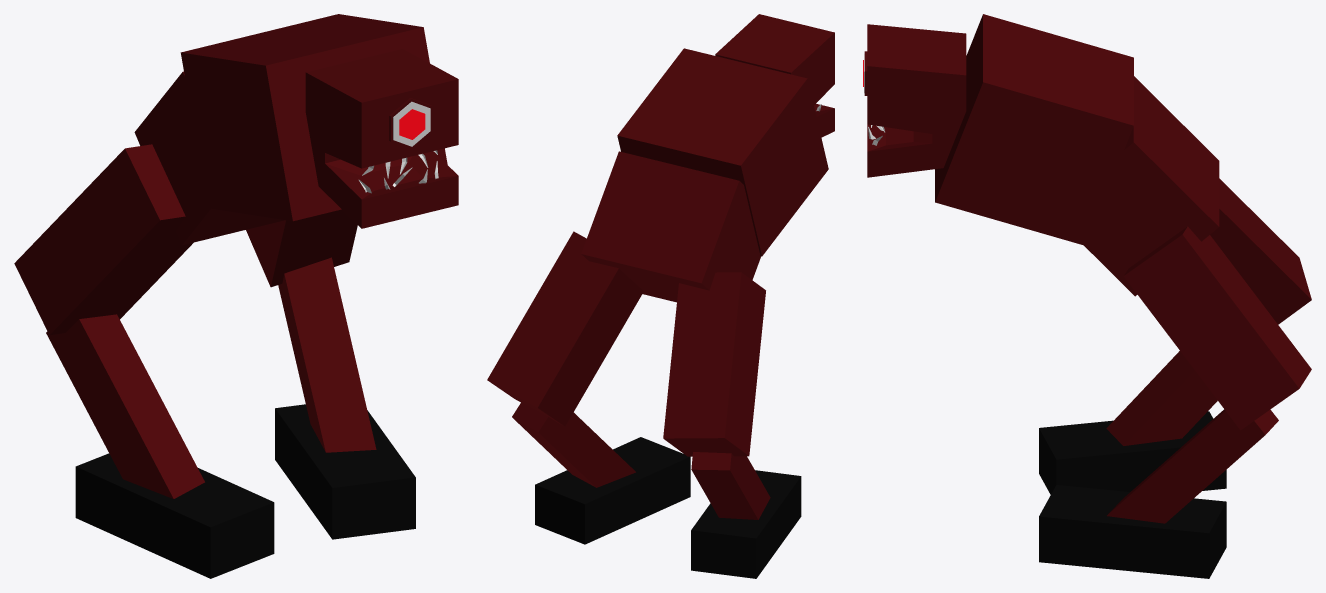
File: Monster.glb
The picture shows the model from 3 angles, left to right: view 1: azimuth 30°, elevation 25°; view 2: azimuth 150°, elevation 25°; view 3: azimuth 270°, elevation 25°; orthographic projection. The views are drawn at different scales.
Parts seen in each view (by area): view 1: Cube.002, Cube.004, Cube.001, Cube, Cube.005, Cube.003, Cylinder.002, Cylinder.001; view 2: Cube, Cube.004, Cube.003, Cube.002, Cube.001, Cube.005; view 3: Cube.004, Cube, Cube.002, Cube.003, Cube.005, Cube.001.
Part boxes in pixels (box(x1,y1,x2,y2)): Cube.002: box(75, 404, 415, 578); Cube.004: box(180, 14, 447, 221); Cube.001: box(46, 257, 376, 498); Cube: box(14, 144, 357, 335); Cube.005: box(305, 48, 458, 228); Cube.003: box(134, 71, 284, 245); Cylinder.002: box(393, 101, 430, 146); Cylinder.001: box(399, 109, 425, 139); Cube: box(487, 231, 765, 456); Cube.004: box(617, 48, 828, 256); Cube.003: box(581, 151, 760, 302); Cube.002: box(535, 437, 801, 578); Cube.001: box(512, 402, 770, 519); Cube.005: box(715, 14, 834, 137); Cube.004: box(935, 14, 1133, 245); Cube: box(1123, 178, 1311, 430); Cube.002: box(1039, 411, 1226, 578); Cube.003: box(1084, 76, 1219, 296); Cube.005: box(867, 24, 966, 177); Cube.001: box(1106, 351, 1278, 523).
Size of the model in its own units: 2.98 by 5 by 4.31.
